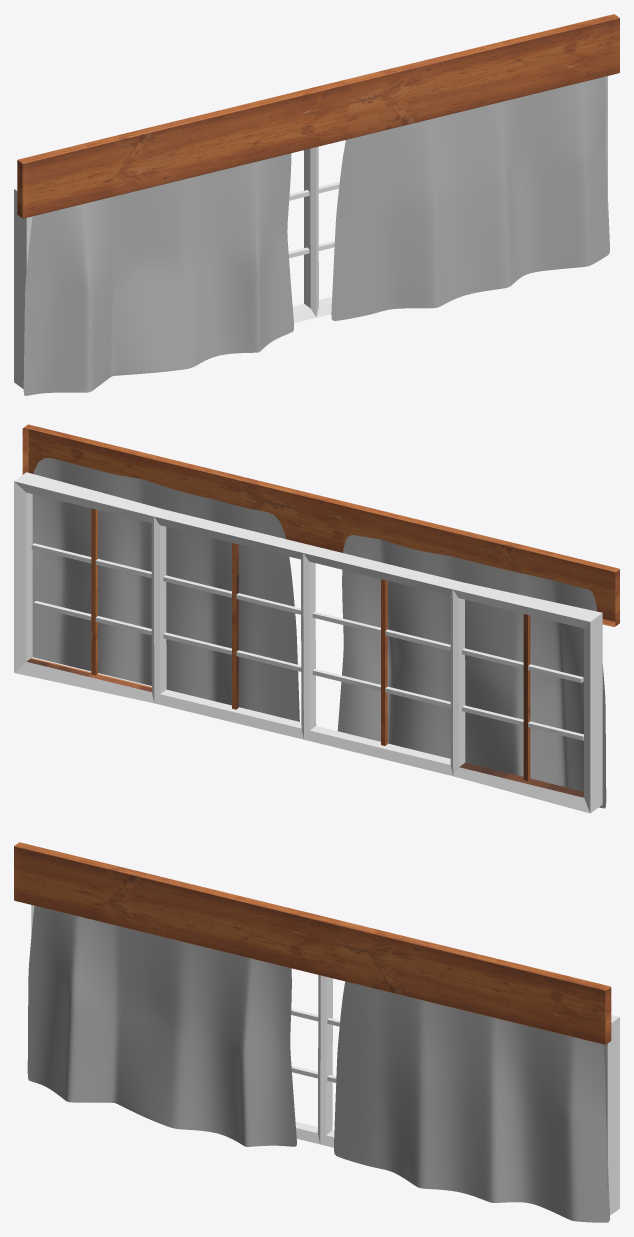
The model's file is CurtainsBig.FBX.
3 renders of one model, top to bottom at view 1: azimuth 30°, elevation 25°; view 2: azimuth 150°, elevation 25°; view 3: azimuth 330°, elevation 25°, orthographic.
Parts seen in each view (by area): view 1: Windows_Large; view 2: Windows_Large; view 3: Windows_Large.
Boxes of the visible parts, bbox=[...] form: Windows_Large: bbox=[14, 14, 619, 395]; Windows_Large: bbox=[14, 424, 619, 813]; Windows_Large: bbox=[14, 842, 619, 1222].
Size of the model in its own units: 138 by 54.4 by 10.09.
2 materials, 1 textured.
